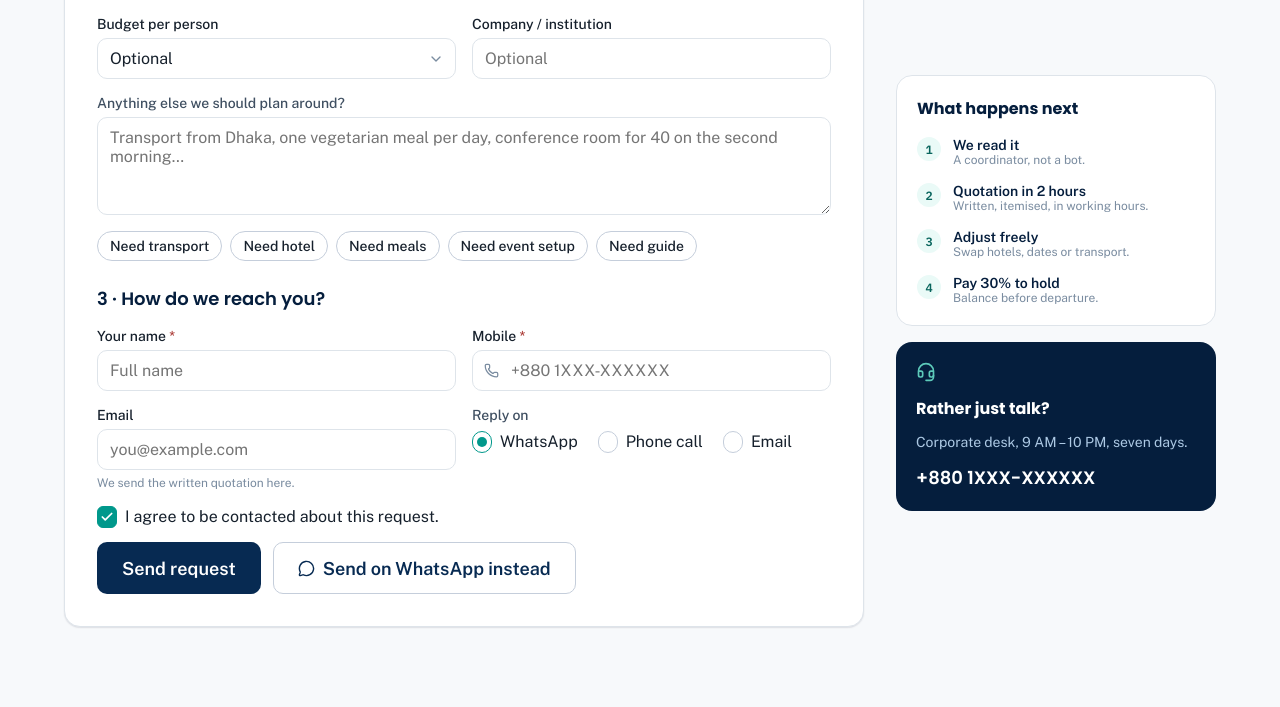
Test: request form › shows the reference the server generated, not a hard-coded one
(page scrolled)
Click the button "Send request": (179, 568) [97, 542, 261, 594]
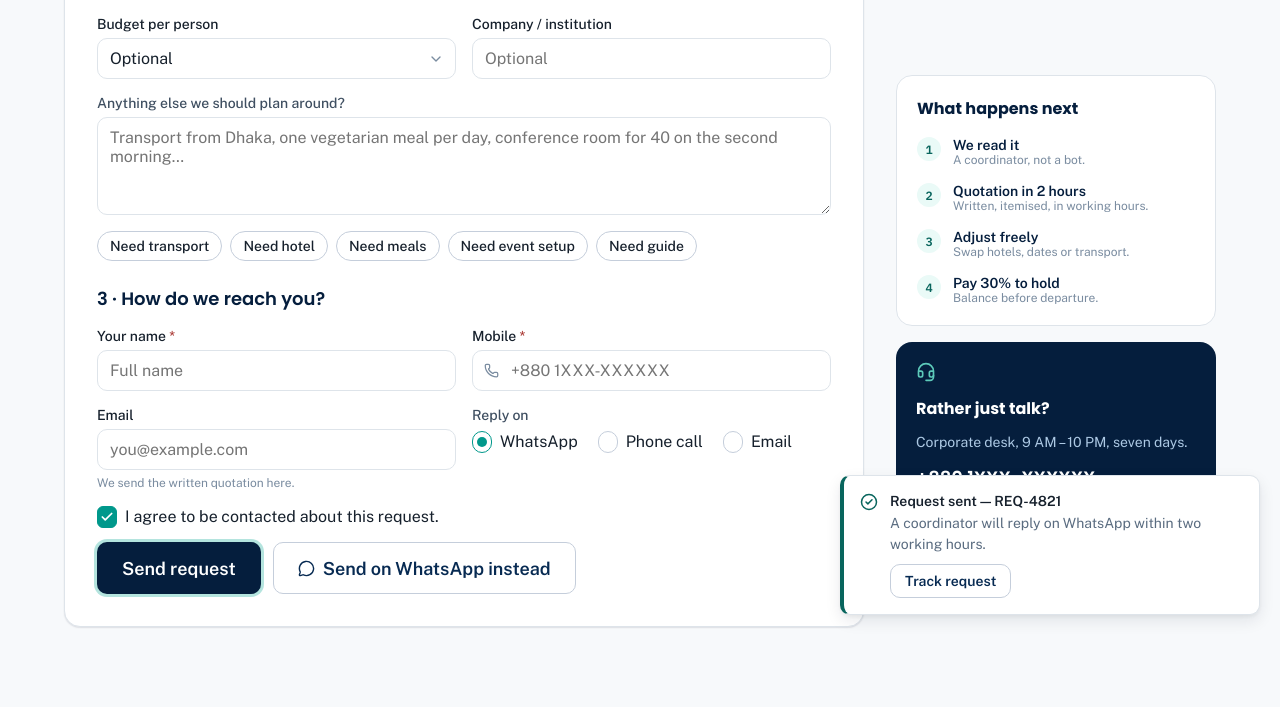
Check: the text "Request sent — REQ-4821" is shown, box [890, 493, 1061, 509]
